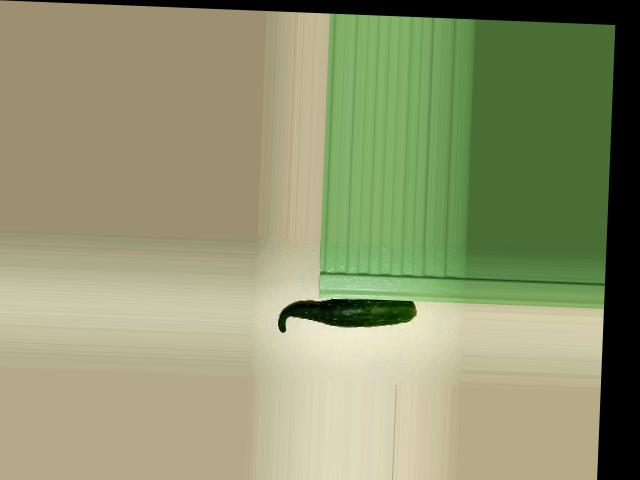cucumber: (277, 295, 416, 337)
